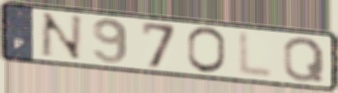7: (140, 20, 177, 70)
9: (91, 18, 129, 66)
L: (236, 29, 276, 81)
N: (37, 11, 86, 62)
O: (185, 25, 228, 76)
Q: (281, 36, 327, 83)
